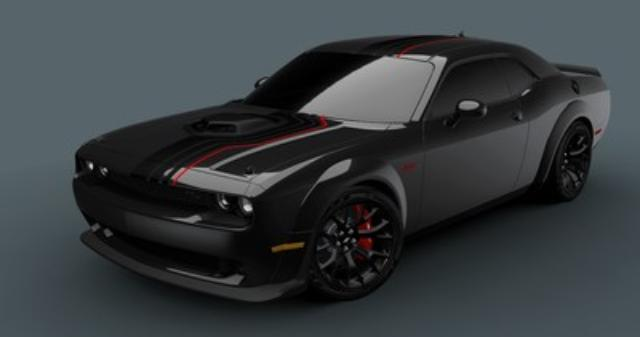dodge: (71, 30, 611, 306)
